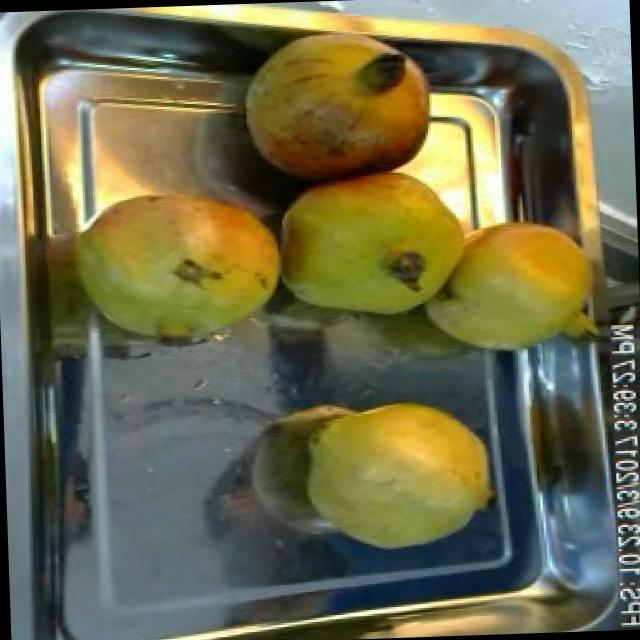fruit: (62, 171, 294, 361), (228, 13, 454, 191), (288, 384, 504, 559), (265, 156, 477, 328), (426, 208, 614, 362)
